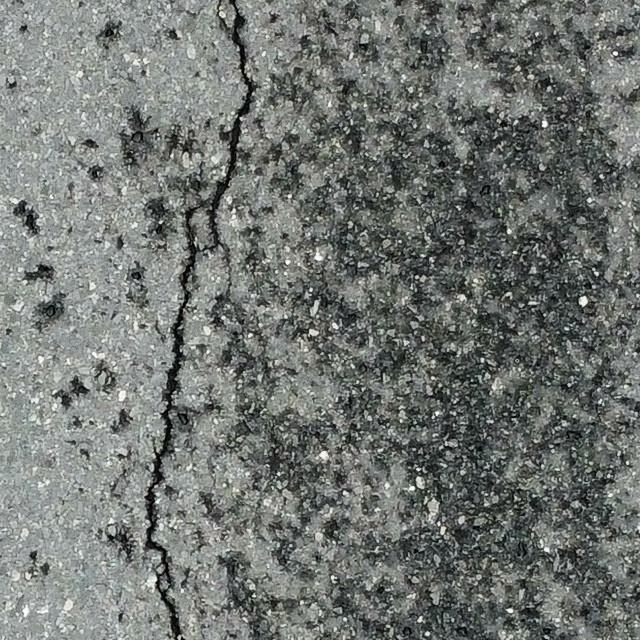LongitudinalCrack: (141, 1, 258, 640)
